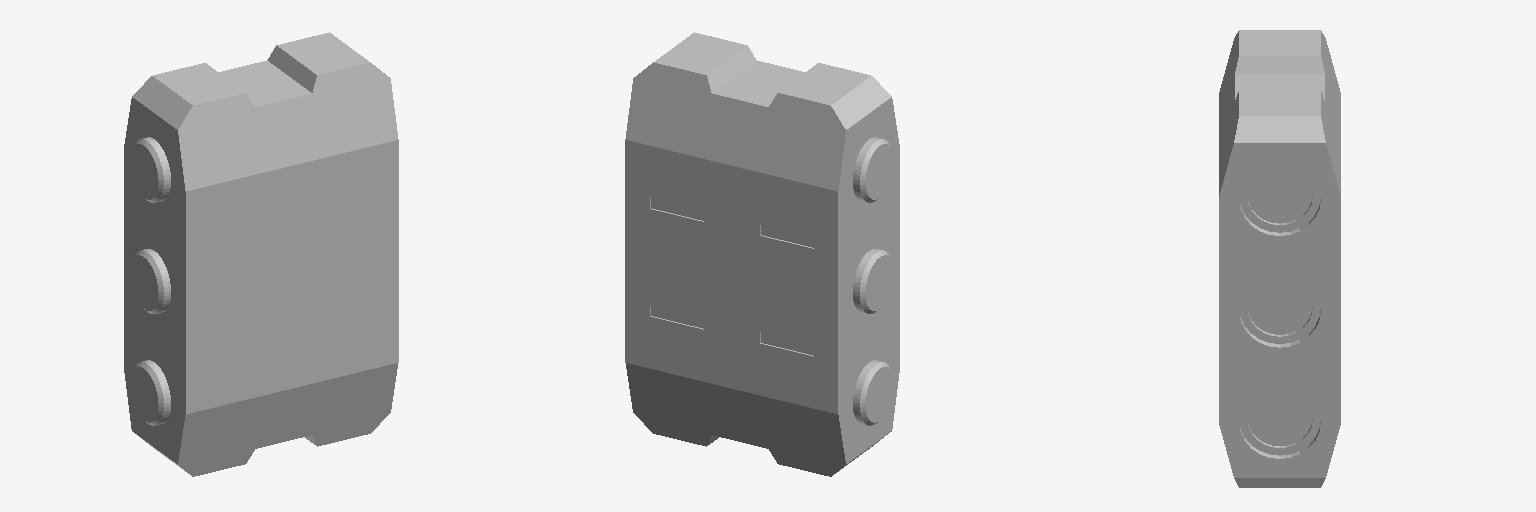
The model's file is Distoray3_raw.obj.
The picture shows the model from 3 angles: view 1: azimuth 30°, elevation 25°; view 2: azimuth 150°, elevation 25°; view 3: azimuth 270°, elevation 25°; orthographic projection.
Visible parts, largest first — view 1: Body1, Body2, Body3, Body4; view 2: Body1, Body2, Body3, Body4; view 3: Body1.
Boxes of the visible parts, box(x1,y1,x2,y2) form: Body1: box(124, 32, 398, 476); Body2: box(130, 137, 170, 202); Body3: box(130, 249, 170, 313); Body4: box(130, 360, 170, 425); Body1: box(625, 32, 899, 476); Body2: box(853, 137, 893, 202); Body3: box(853, 249, 893, 313); Body4: box(853, 360, 893, 425); Body1: box(1219, 30, 1340, 487).
Size of the model in its own units: 6.3 by 10 by 3.